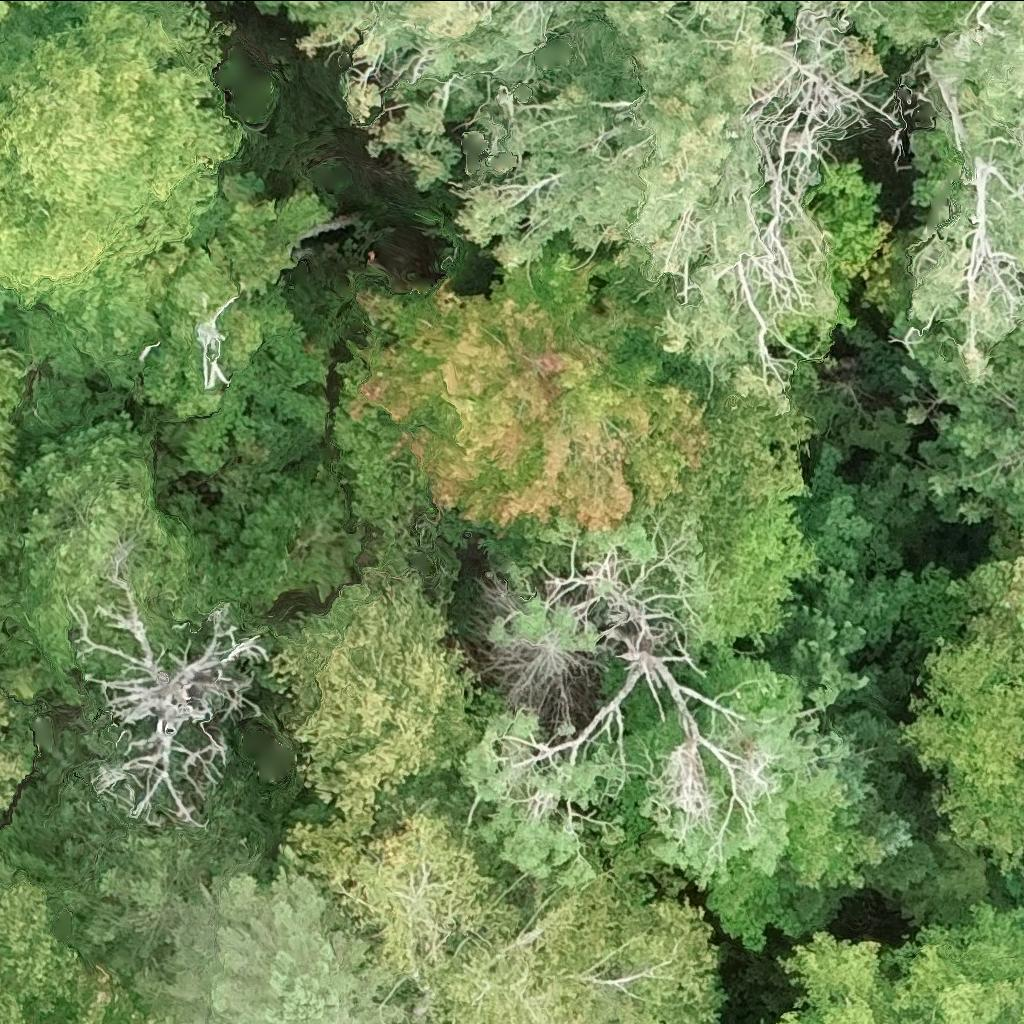crown: (467, 0, 836, 380), (347, 237, 711, 542), (297, 802, 723, 1023), (0, 0, 238, 314), (264, 0, 603, 190), (270, 550, 488, 816), (650, 648, 883, 896), (23, 419, 213, 706), (84, 544, 267, 819), (58, 174, 324, 351), (137, 867, 405, 1023), (476, 514, 716, 668), (890, 293, 1023, 538), (60, 827, 253, 978), (456, 706, 622, 879), (906, 608, 1023, 852), (916, 138, 1023, 379), (882, 905, 1023, 1023), (922, 0, 1023, 153), (0, 854, 76, 1023), (774, 935, 899, 1023), (38, 960, 177, 1023), (951, 560, 1023, 633), (0, 688, 35, 812), (193, 296, 239, 390), (713, 0, 840, 34), (0, 339, 25, 510), (0, 0, 8, 16), (31, 0, 45, 1)
